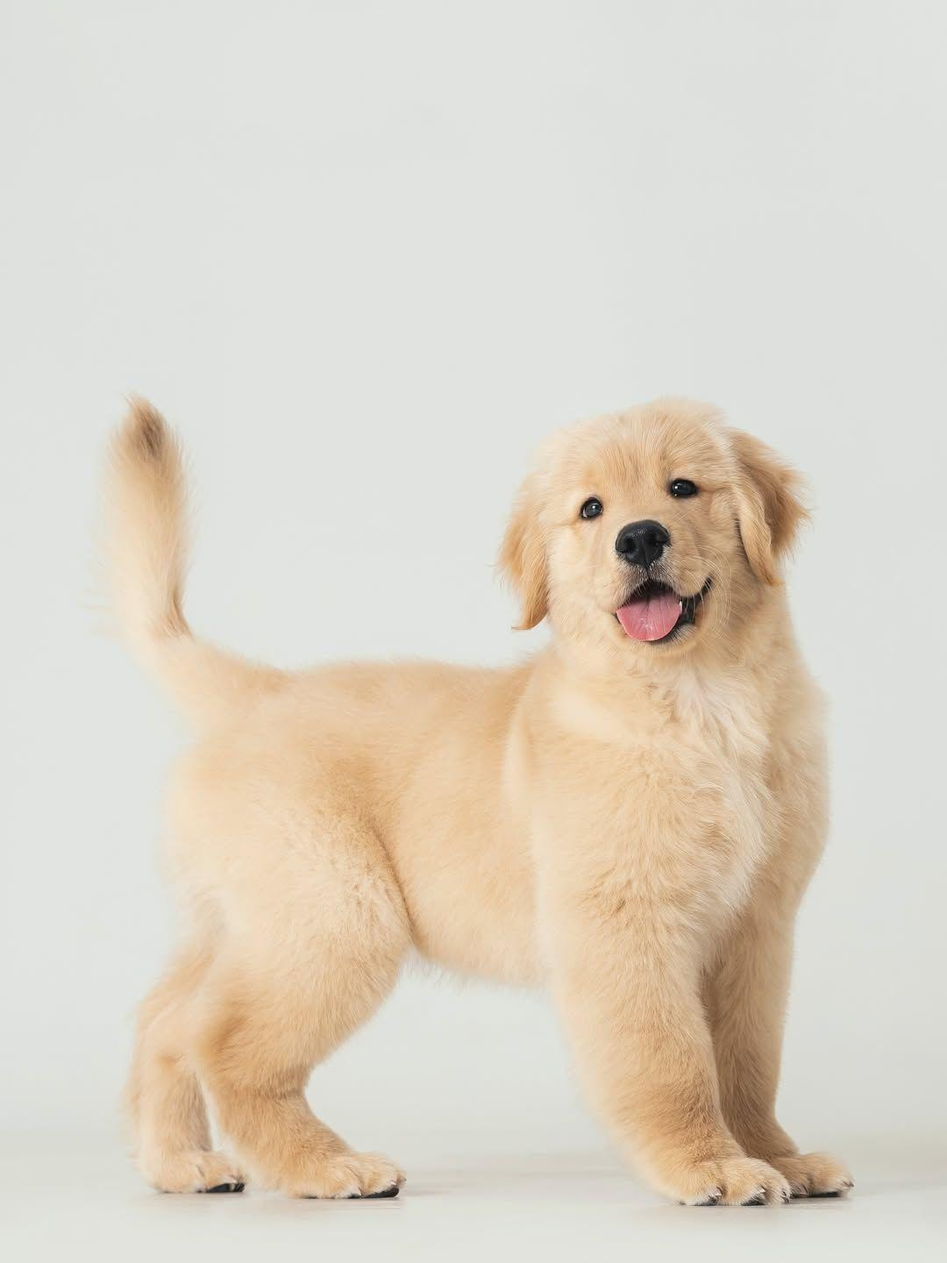puppy-dog: (97, 389, 856, 1209)
